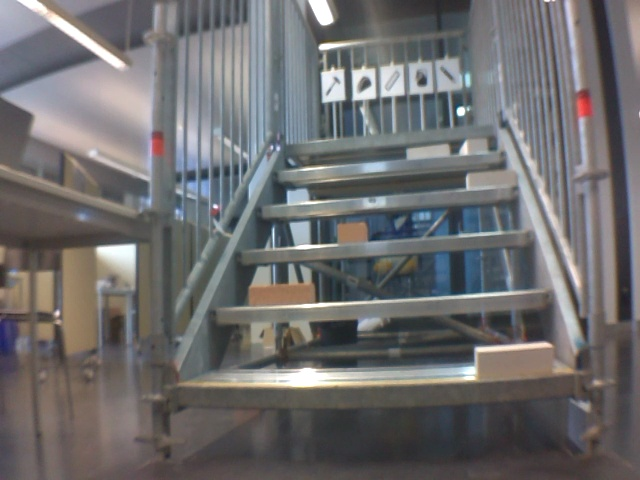brick: (475, 343, 554, 378), (250, 284, 313, 305), (465, 172, 517, 188), (406, 144, 448, 159), (338, 223, 365, 243), (460, 139, 488, 154)
bucket: (412, 66, 430, 90)
edge: (181, 374, 576, 408), (211, 291, 555, 320), (234, 232, 538, 262), (256, 188, 522, 217), (271, 152, 509, 181), (286, 126, 492, 147)
hammer: (322, 75, 343, 98)
pencil: (438, 64, 459, 84)
ruler: (383, 68, 401, 92)
stairs: (148, 2, 607, 450)
steps: (169, 124, 584, 416)
taco: (354, 73, 374, 96)
